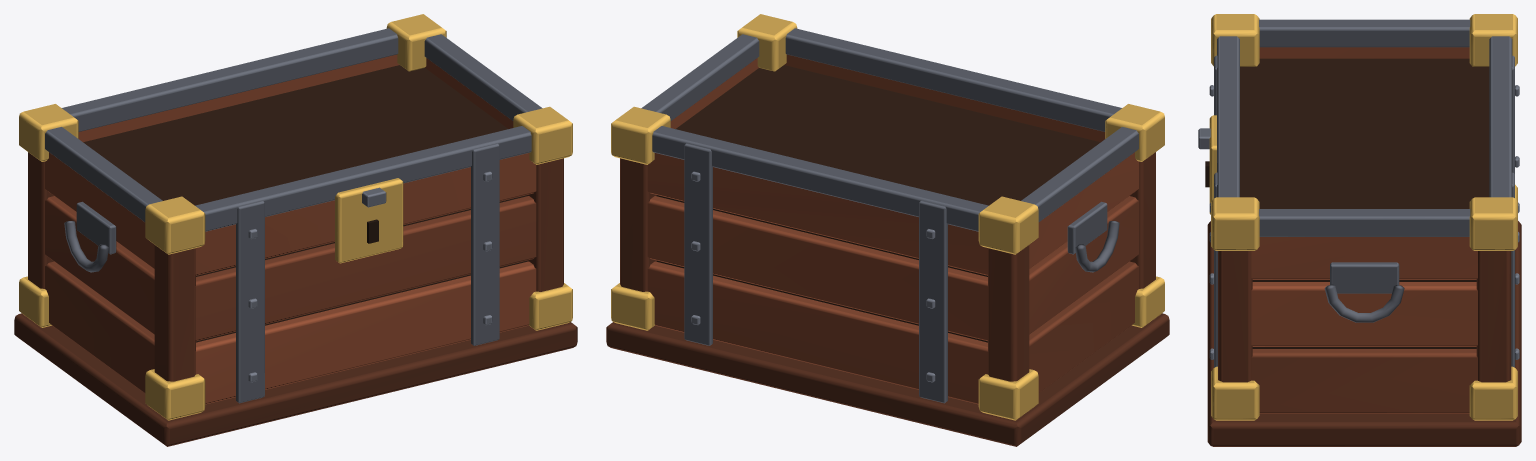
Rendered from chest_pack.glb.
3 renders of one model, left to right at view 1: azimuth 30°, elevation 25°; view 2: azimuth 150°, elevation 25°; view 3: azimuth 270°, elevation 25°, orthographic. The views are drawn at different scales.
Visible parts, largest first — view 1: chest_pack_LOD0; view 2: chest_pack_LOD0; view 3: chest_pack_LOD0.
Boxes of the visible parts, bbox=[...] form: chest_pack_LOD0: bbox=[14, 14, 577, 446]; chest_pack_LOD0: bbox=[606, 14, 1169, 446]; chest_pack_LOD0: bbox=[1198, 14, 1521, 446].
Size of what is drawn, in the model's own units: 1.09 by 0.555 by 0.7.
